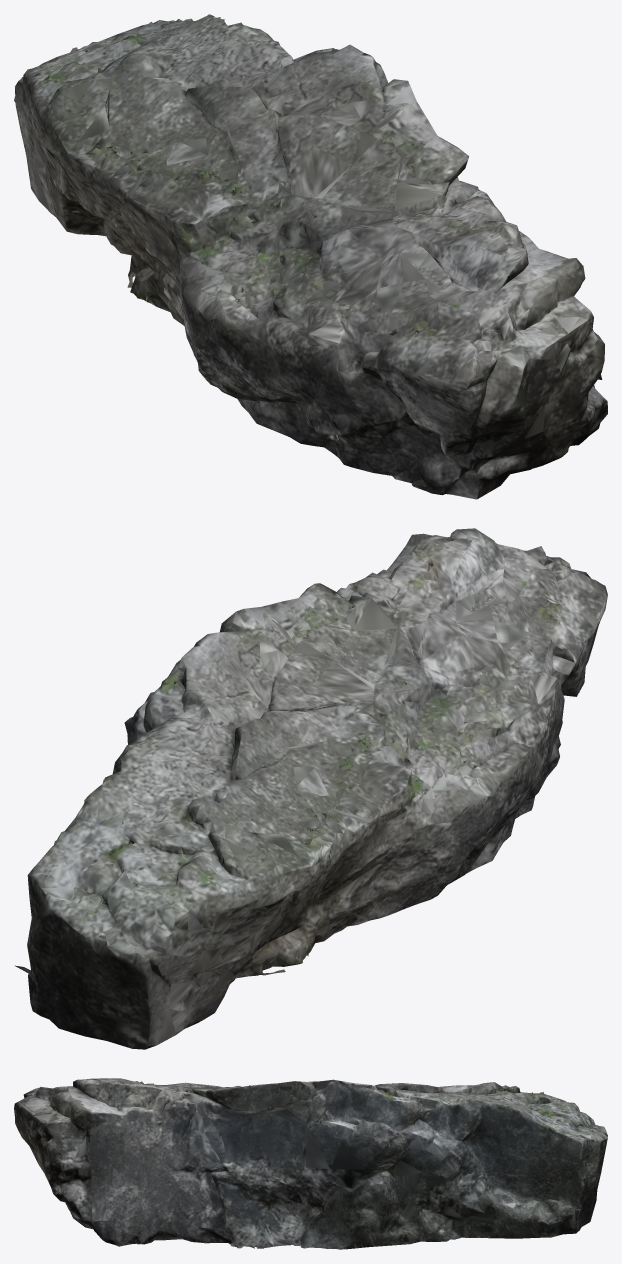
File: small_rock2.glb
3 renders of one model, top to bottom at view 1: azimuth 30°, elevation 25°; view 2: azimuth 150°, elevation 25°; view 3: azimuth 270°, elevation 25°, orthographic. The views are drawn at different scales.
Visible parts, largest first — view 1: Natural Weathered Rock; view 2: Natural Weathered Rock; view 3: Natural Weathered Rock.
Boxes of the visible parts, bbox=[...] form: Natural Weathered Rock: bbox=[14, 14, 607, 499]; Natural Weathered Rock: bbox=[15, 528, 607, 1049]; Natural Weathered Rock: bbox=[14, 1078, 607, 1249].
Size of the model in its own units: 0.5987 by 0.5074 by 1.76.
1 material, 1 textured.
